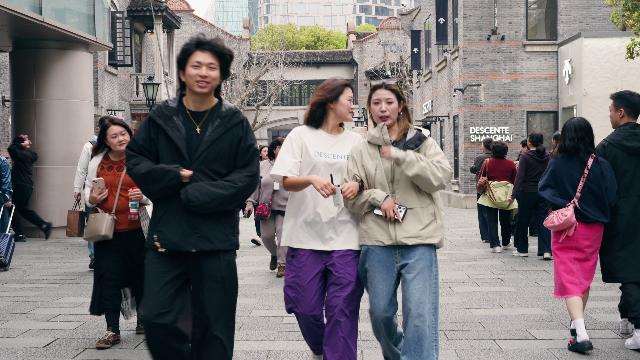person: (124, 32, 261, 360), (342, 80, 454, 360), (269, 77, 368, 360), (540, 107, 614, 359), (83, 117, 152, 349), (596, 89, 640, 352), (72, 115, 112, 270), (507, 131, 555, 260), (7, 136, 52, 242), (476, 140, 518, 253), (470, 137, 496, 243)
